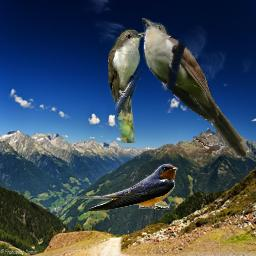Cuckoo: (142, 18, 250, 158), (108, 26, 147, 143), (193, 136, 226, 157)
Swallow: (65, 163, 178, 211)
